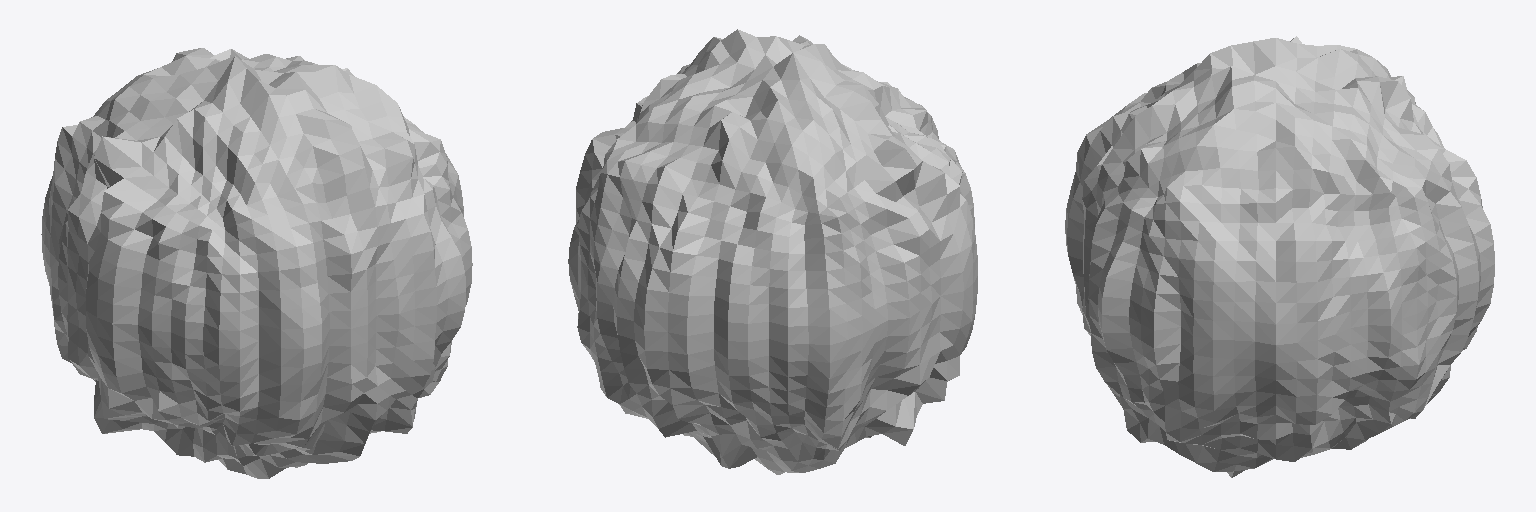
File: asteroid29.obj
The picture shows the model from 3 angles: view 1: azimuth 30°, elevation 25°; view 2: azimuth 150°, elevation 25°; view 3: azimuth 270°, elevation 25°; orthographic projection.
Parts seen in each view (by area): view 1: Cube_Cube.002; view 2: Cube_Cube.002; view 3: Cube_Cube.002.
Part boxes in pixels (left/top/right/bottom): Cube_Cube.002: left=41, top=48, right=472, bottom=478; Cube_Cube.002: left=568, top=29, right=977, bottom=474; Cube_Cube.002: left=1065, top=36, right=1494, bottom=477.
Bounding box in the file's own units: 1.75 × 1.89 × 1.78.